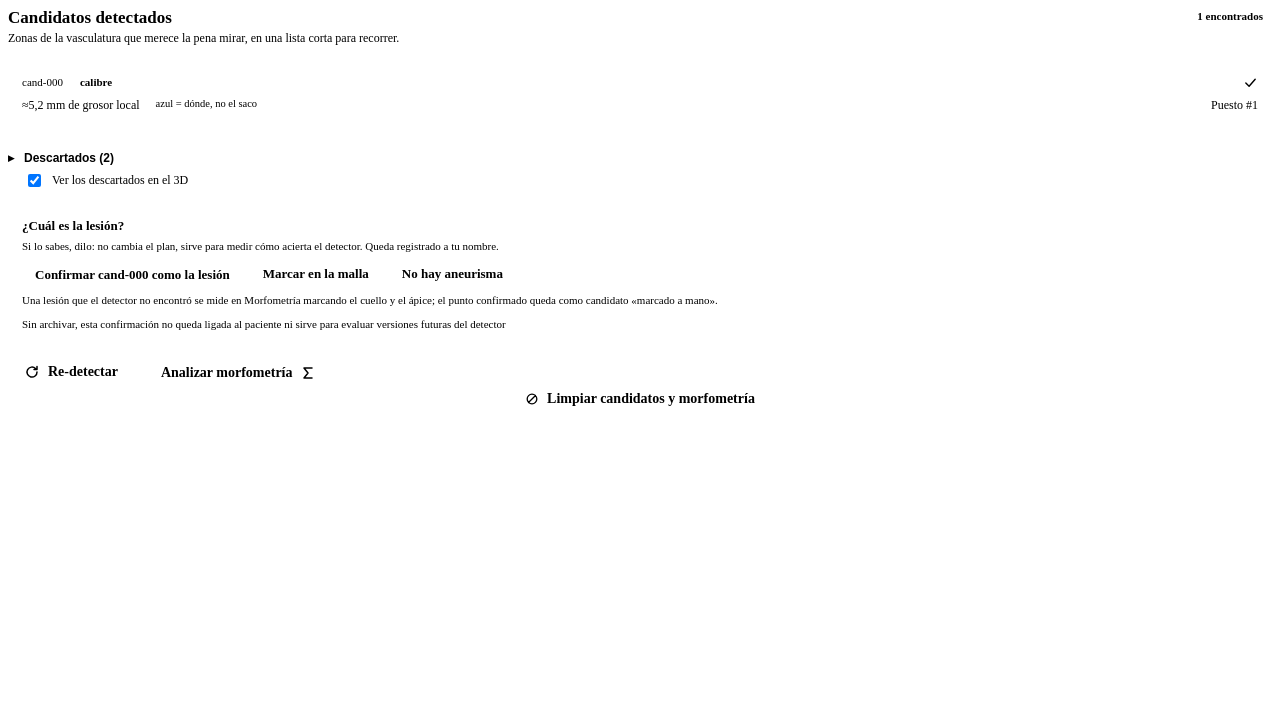
Scenario: DetectPanel › muestra los aceptados con su puesto y un desplegable cerrado con los descartados
Expected: the text "Puesto #1" is shown, [1211, 98, 1258, 113]
Expected: the text "Recorte de la malla" is not shown
What coordinates should you click on to do the following:
click the button "▸ Descartados (2)"
I would click on:
 (69, 158)
Its box is [8, 147, 1272, 169].
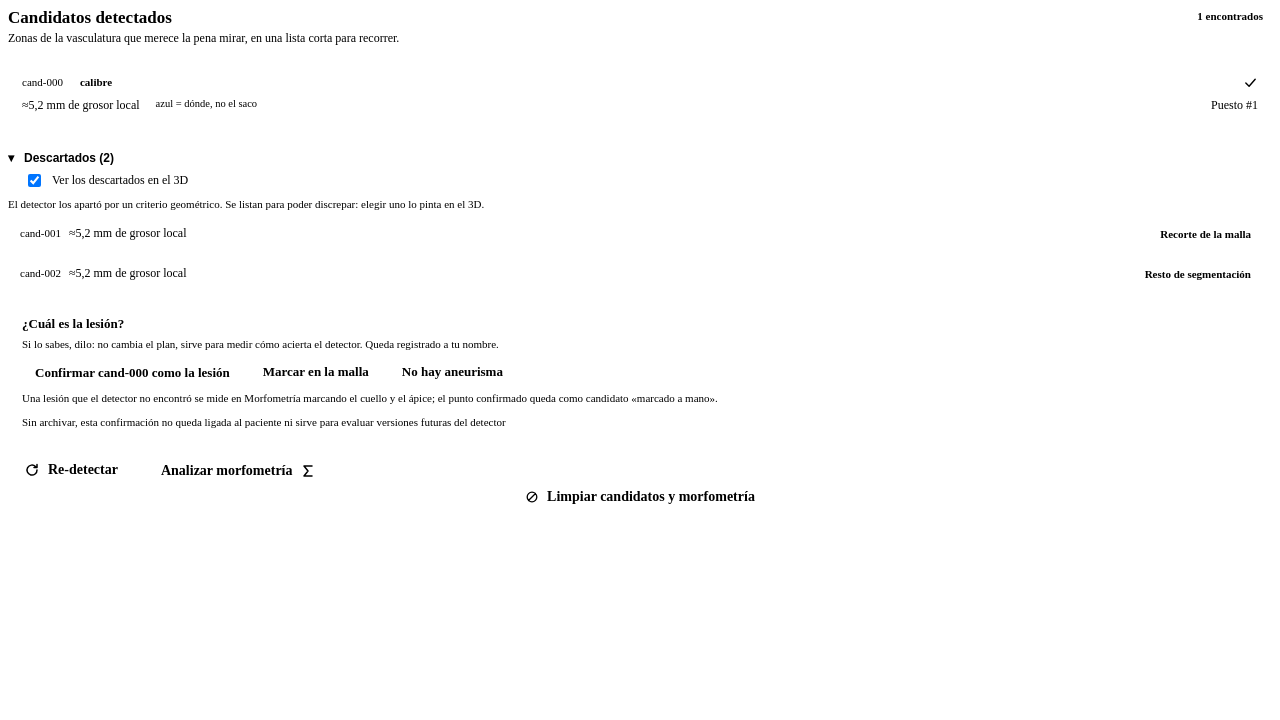
Expected: the button "▾ Descartados (2)" is expanded, [8, 147, 1272, 169]
Expected: the text "Recorte de la malla" is shown, [1160, 228, 1251, 240]
Expected: the text "Resto de segmentación" is shown, [1136, 266, 1260, 282]
